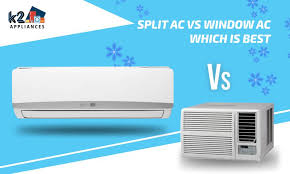ac: (10, 63, 175, 121)
